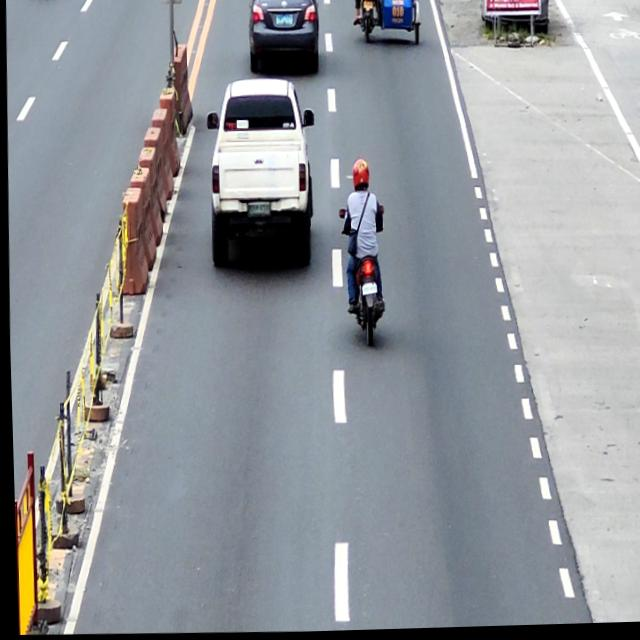Car: (202, 77, 317, 270), (244, 0, 323, 75)
License-Plate: (245, 202, 270, 219), (359, 283, 375, 298), (275, 16, 293, 28), (363, 2, 373, 12)
Motorcycle: (335, 207, 385, 348)
Tricycle: (358, 0, 420, 45)
